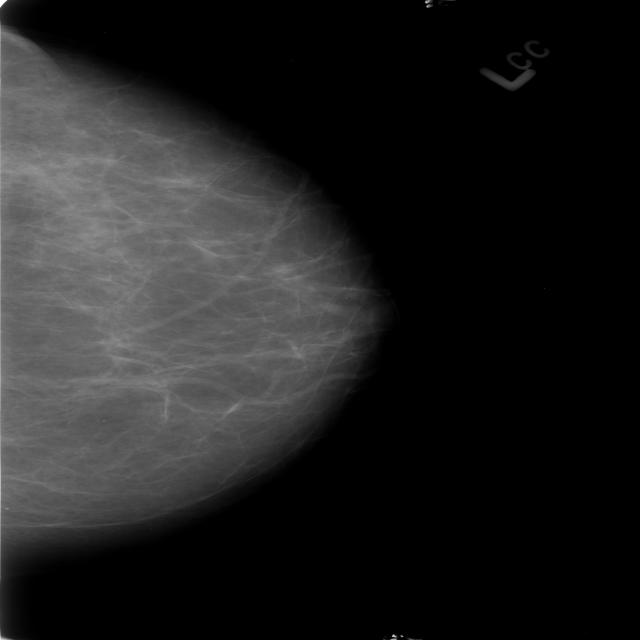normal: (0, 22, 386, 536)
